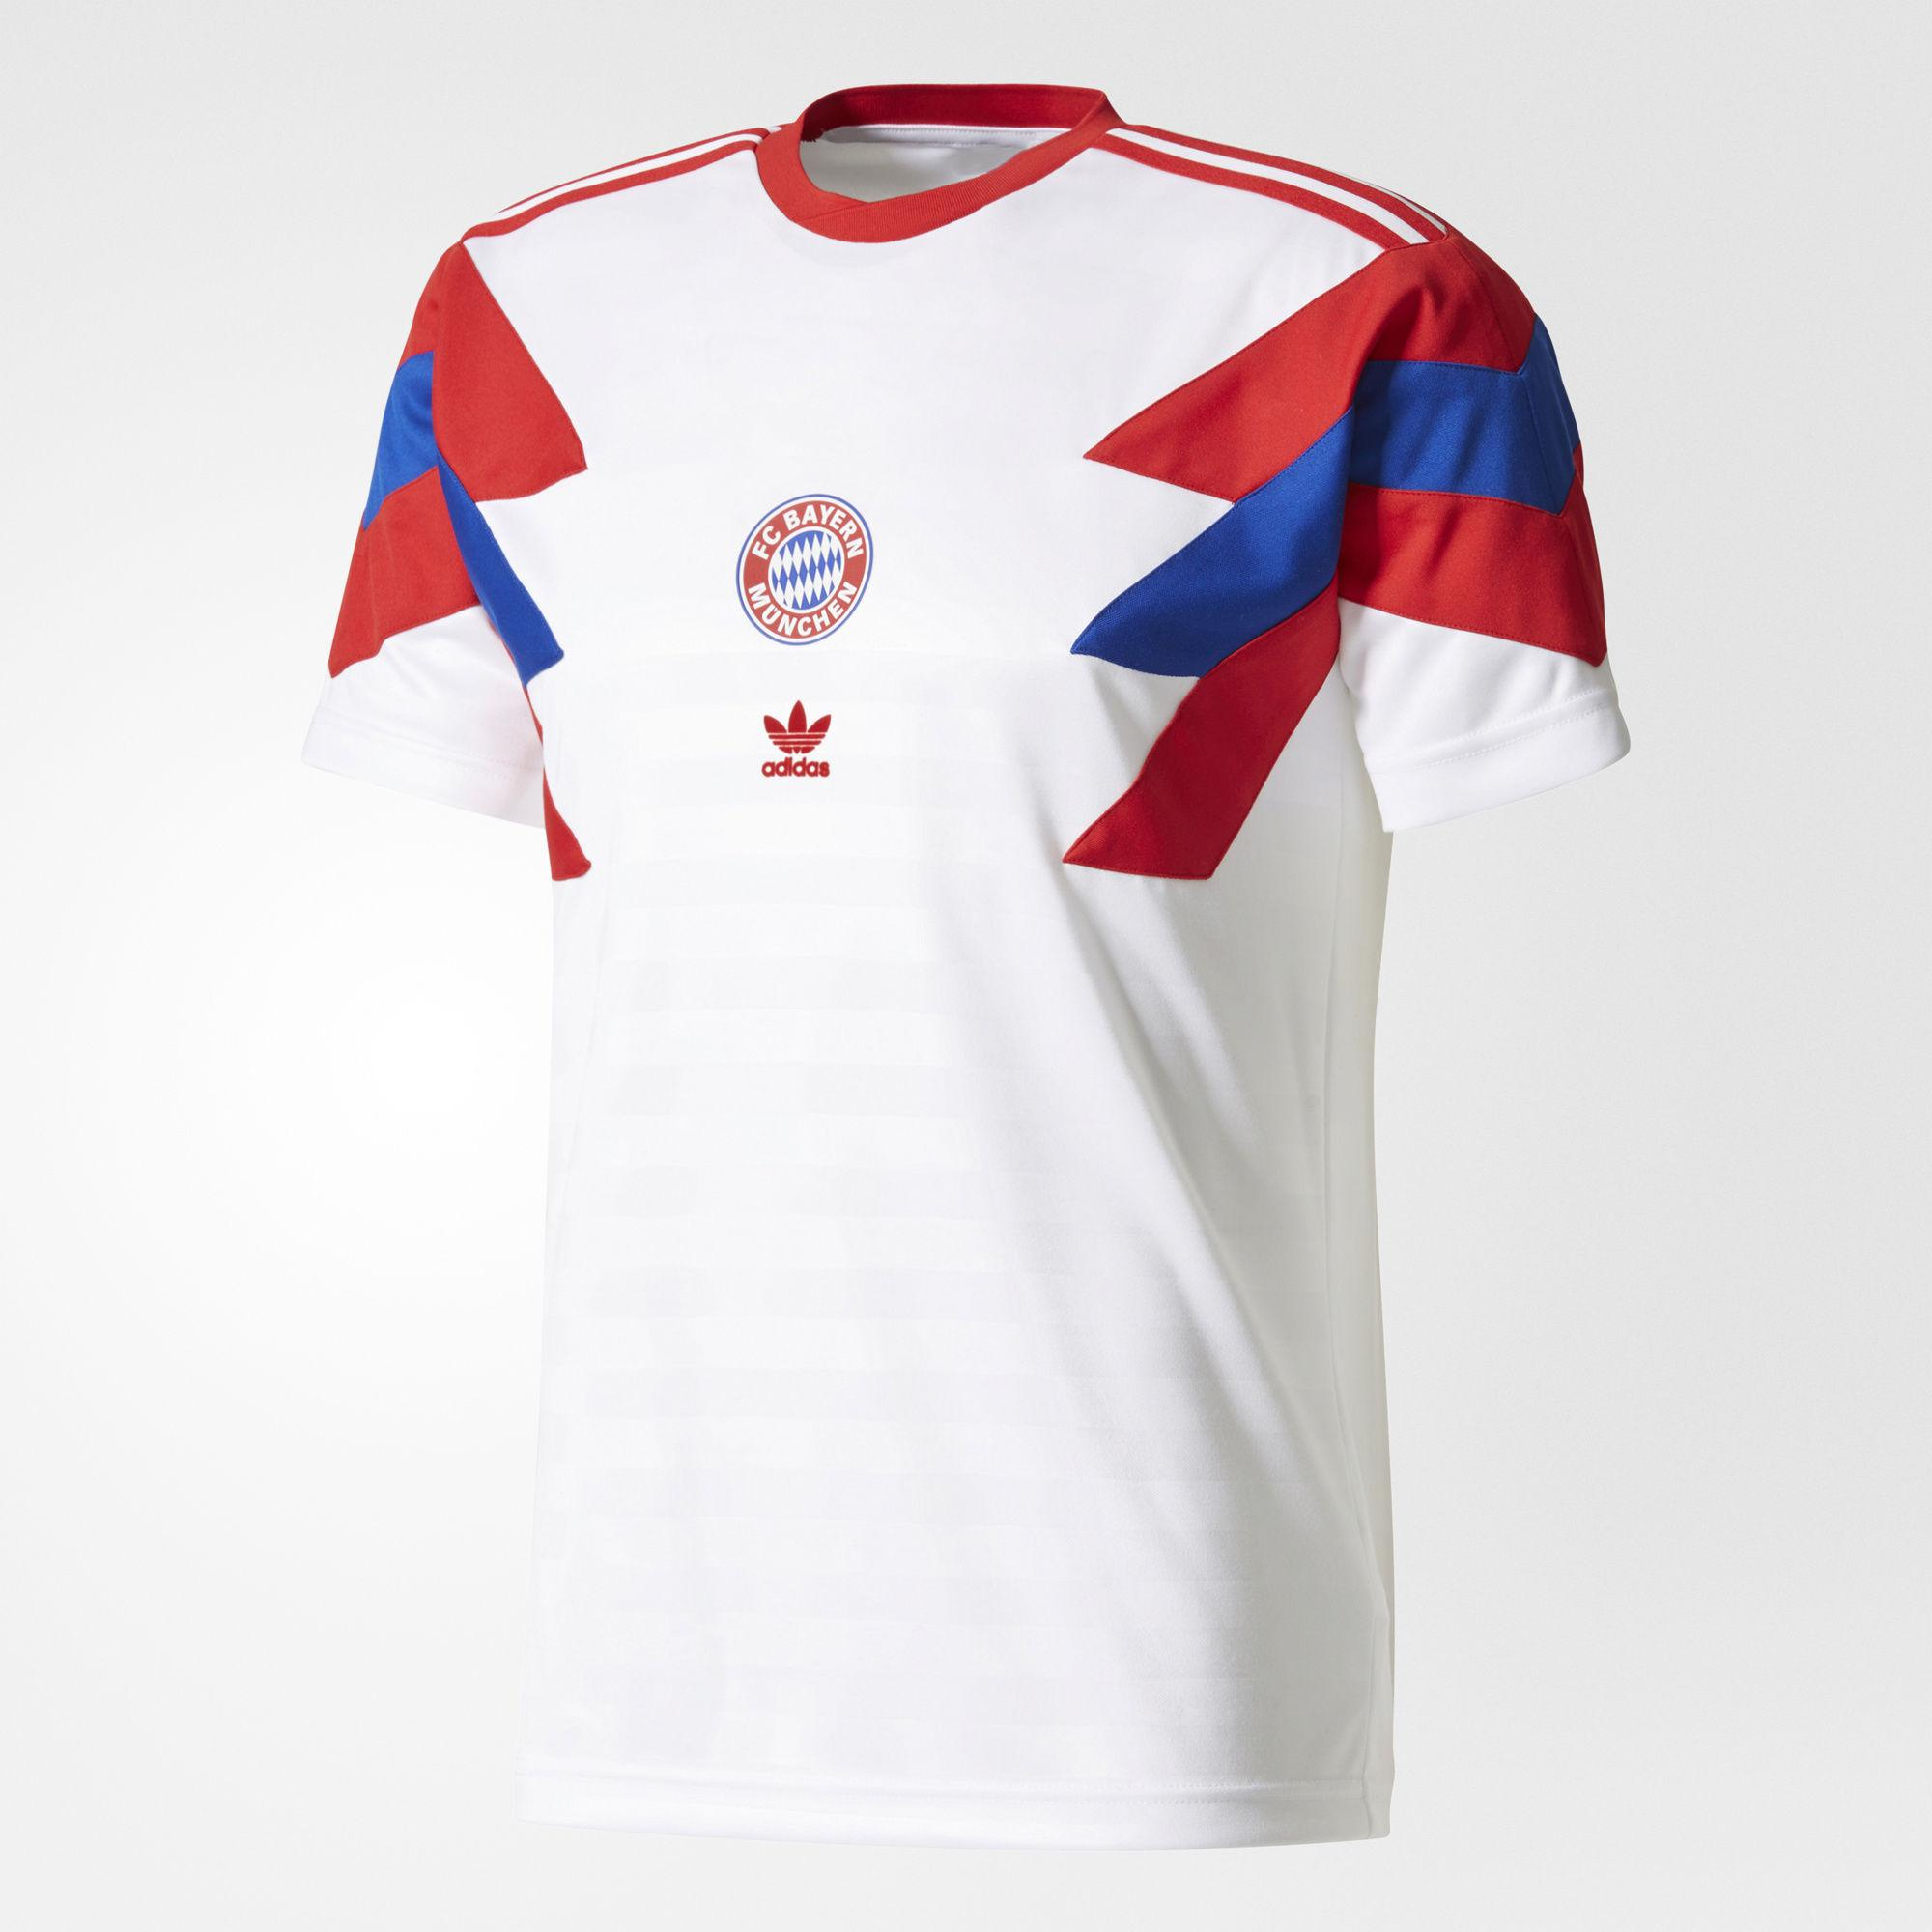teeshirt: (271, 73, 1711, 1914)
